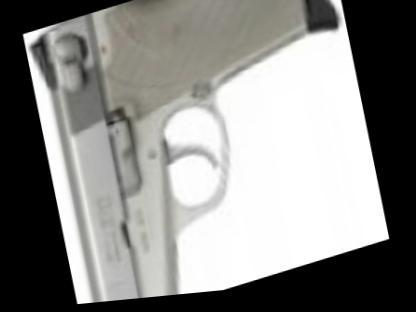pistol: (21, 0, 386, 309)
